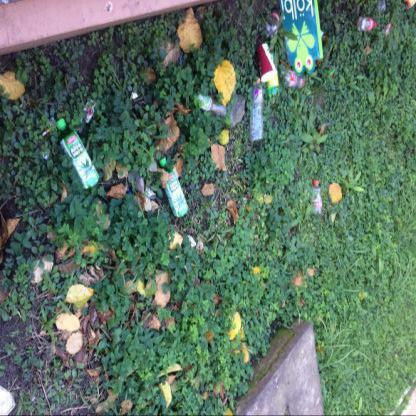Bottle: (314, 181, 319, 184), (258, 77, 260, 82)
Bottle cap: (57, 118, 99, 191), (158, 158, 188, 219), (250, 78, 264, 140), (197, 93, 227, 118), (286, 69, 306, 90), (264, 10, 278, 38), (266, 74, 280, 100), (312, 181, 322, 214), (356, 17, 376, 31), (377, 0, 386, 12)
Carton: (384, 23, 392, 35)
Cigarette: (41, 128, 50, 136)
Cup: (255, 44, 277, 83)
Paper: (132, 93, 138, 100)
Plastic bag - wrapper: (80, 100, 96, 124), (145, 186, 156, 200)
Unlabeled litter: (278, 0, 323, 76), (402, 1, 415, 10)
